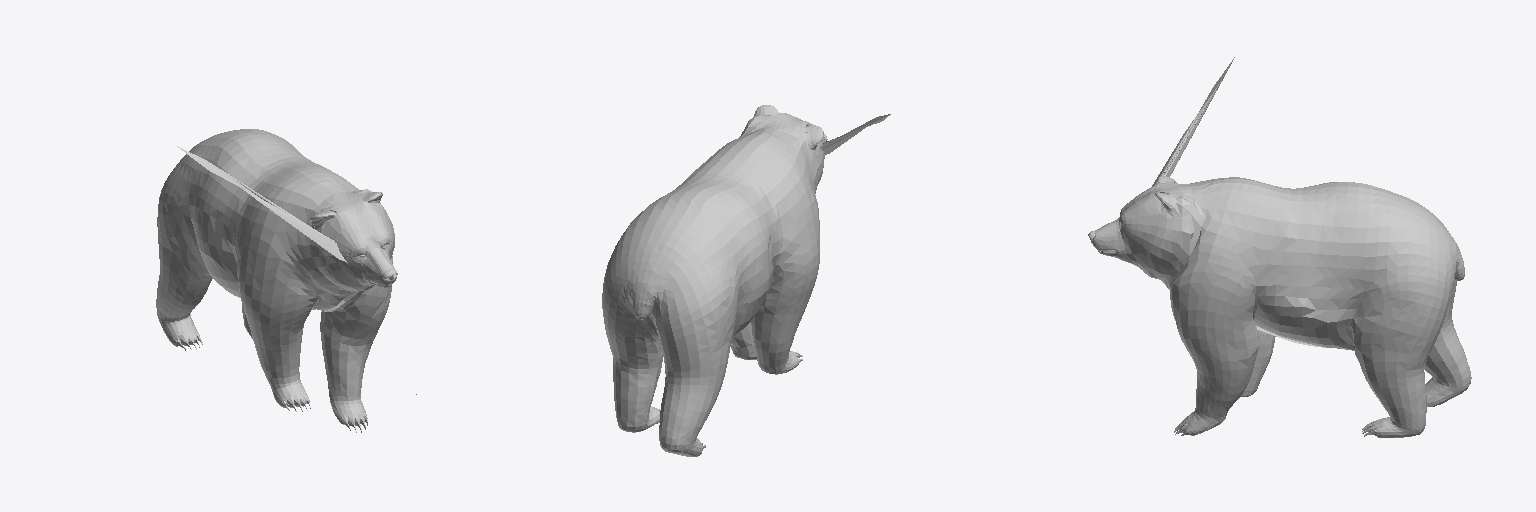
File: Bear0178.obj
3 renders of one model, left to right at view 1: azimuth 30°, elevation 25°; view 2: azimuth 150°, elevation 25°; view 3: azimuth 270°, elevation 25°, orthographic.
Parts seen in each view (by area): view 1: Object_237; view 2: Object_237; view 3: Object_237.
Boxes of the visible parts, <box> form: Object_237: <box>156,129,416,432</box>; Object_237: <box>602,105,890,456</box>; Object_237: <box>1088,57,1471,437</box>.
Size of the model in its own units: 3.04 by 4.3 by 4.93.